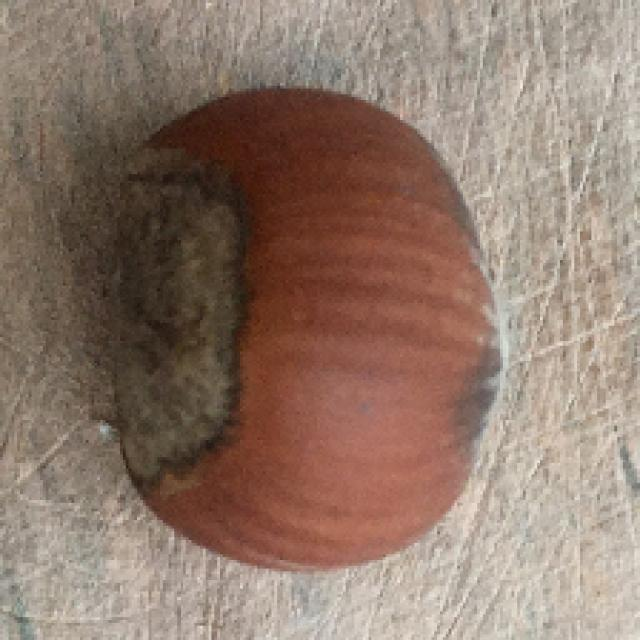qualityHazelnut: (92, 90, 512, 570)
